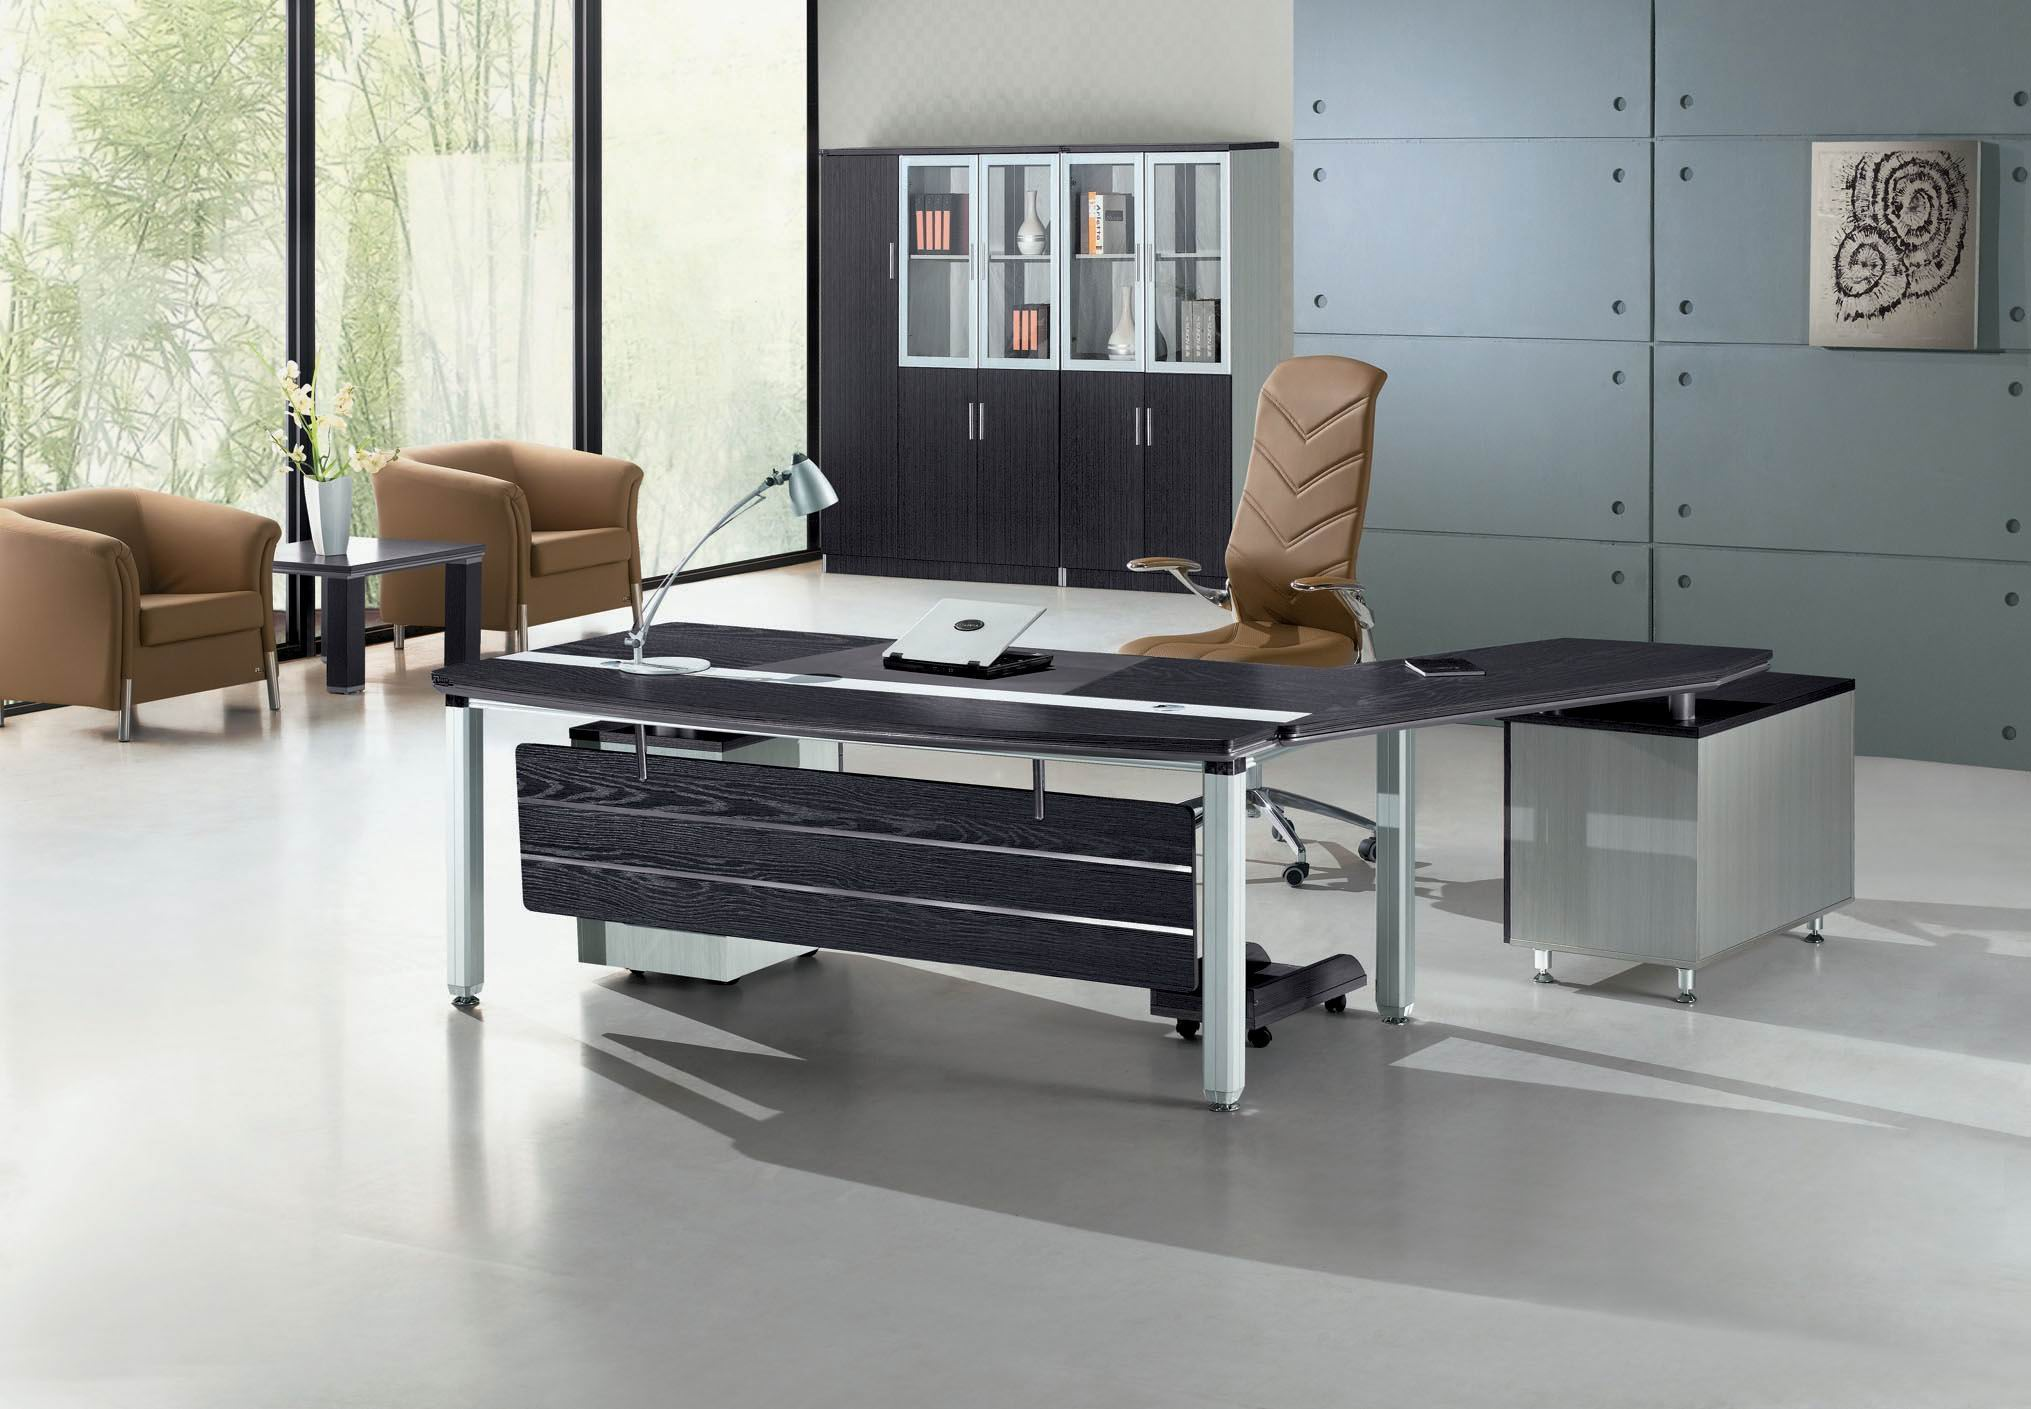chairs: (1119, 356, 1415, 881), (2, 461, 290, 745), (369, 421, 651, 676)
